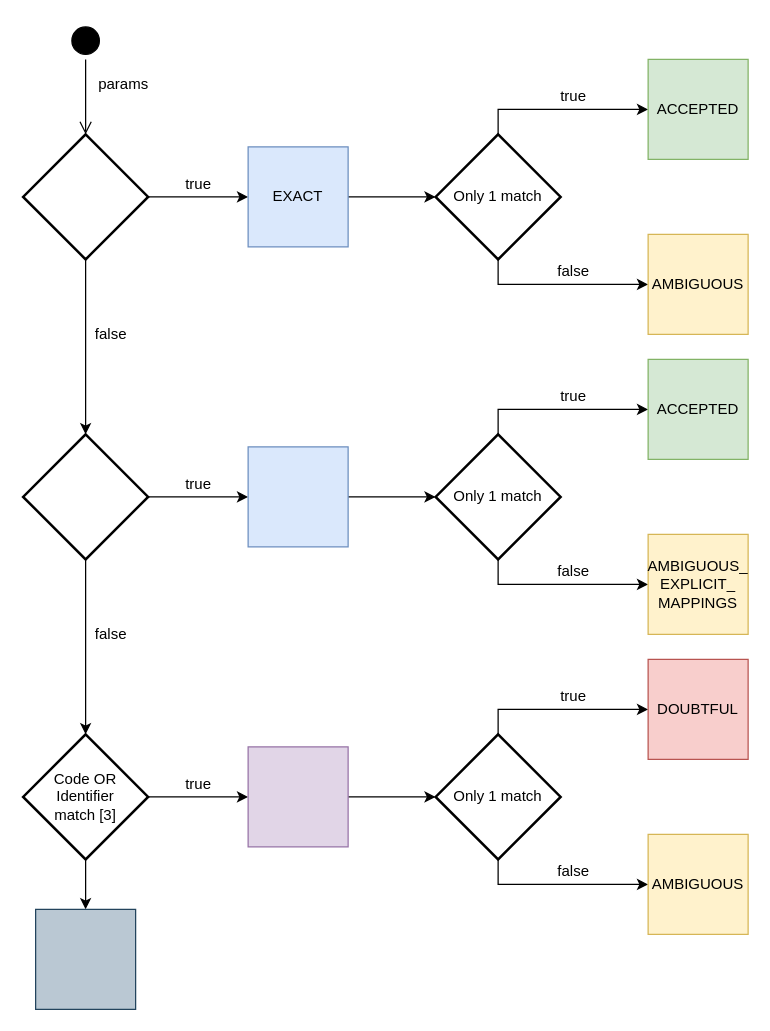
Image size: 770x1031. Some labels were removed from this diagram. Here are the shapes that lost their labels. From the top down, the centre of each, then its label:
point (85, 196): Code & Identifier match [1]
point (85, 496): Occurrence Mapping Match [2]
point (297, 496): EXPLICIT_ MAPPING
point (297, 796): FUZZY
point (85, 958): NONE
